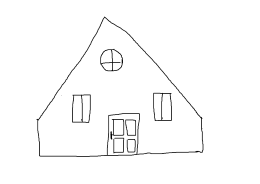closed_window: (68, 89, 98, 128), (96, 45, 129, 78), (150, 89, 177, 126)
door: (104, 110, 144, 160)
single_line_roof: (39, 8, 188, 89)
wall: (31, 100, 208, 162)
